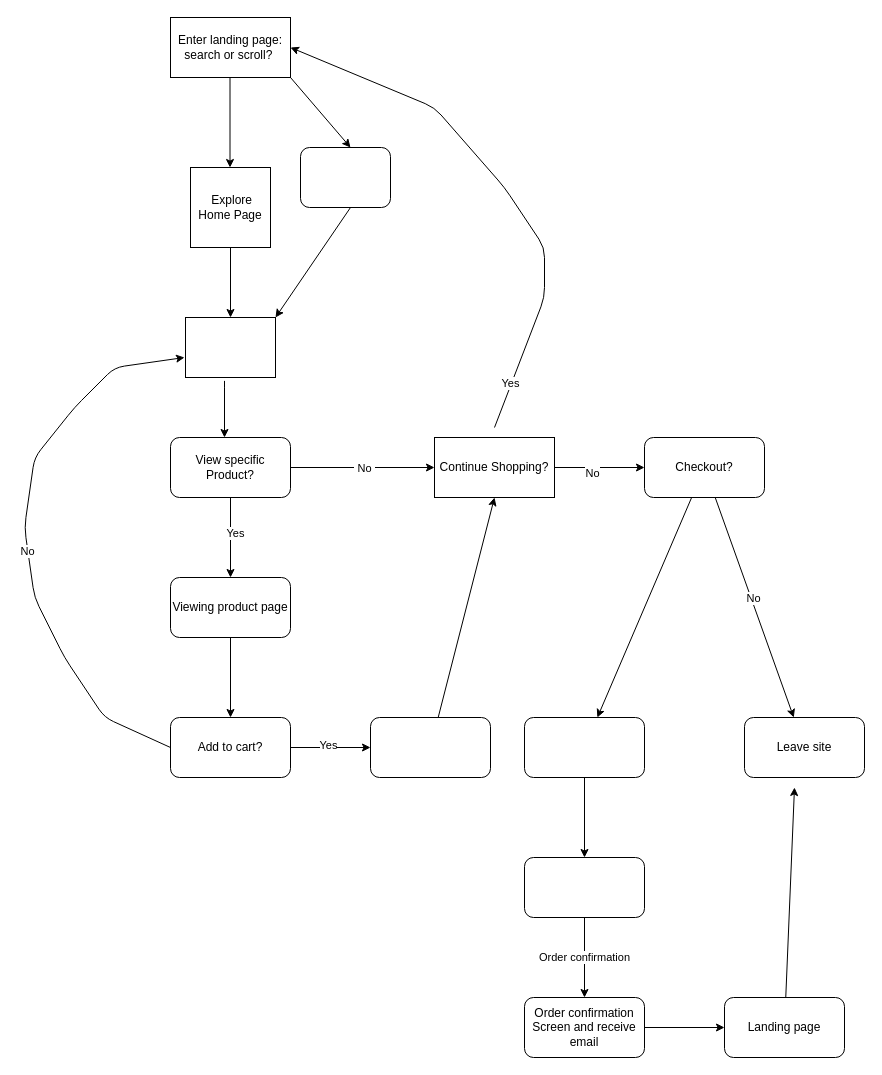
The diagram is 882 pixels wide and 1075 high, and some of its shapes have lost their labels. Each missing label, with the box of its shape:
Add to cart confirmation banner: (370, 716, 490, 778)
Search for a product (user input): (300, 146, 390, 208)
View and Input Payment Screen: (524, 856, 644, 918)
View Cart Screen (can edit cart or address from here): (524, 716, 644, 778)
View Product Listings: (184, 316, 276, 378)
